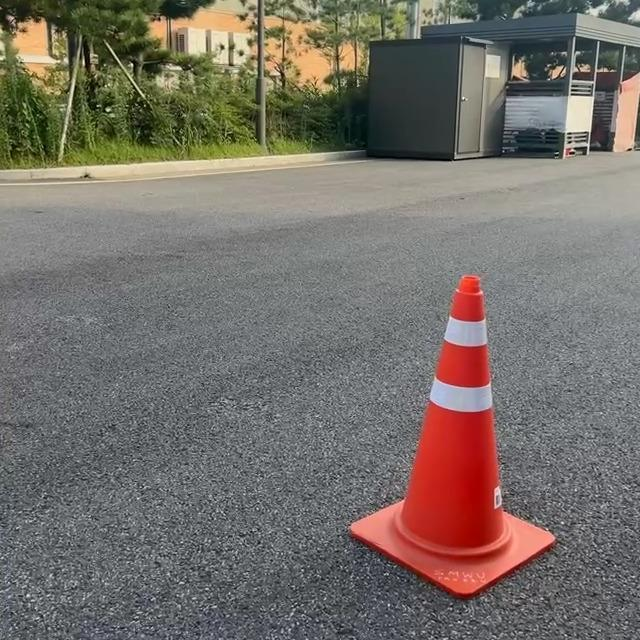fallen_object: (317, 237, 604, 611)
